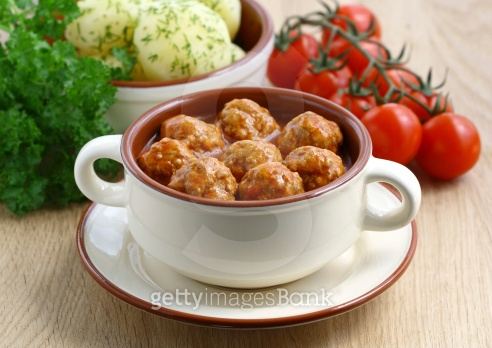boiled potatoes: (73, 5, 242, 72), (138, 7, 230, 72)
meatballs: (142, 106, 340, 197), (239, 163, 302, 194), (285, 148, 344, 181)
